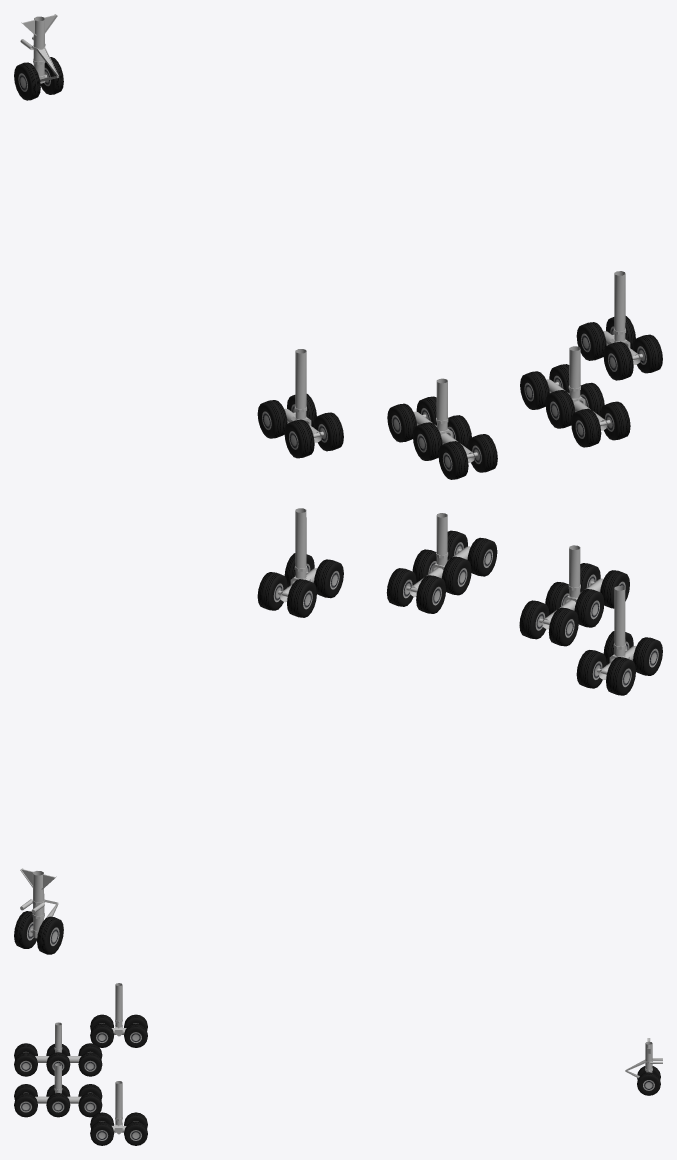
3 renders of one model, top to bottom at view 1: azimuth 30°, elevation 25°; view 2: azimuth 150°, elevation 25°; view 3: azimuth 270°, elevation 25°, orthographic. The views are drawn at different scales.
Visible parts, largest first — view 1: btyrela, tyrewla, rbtyrela, tyrerwla, tyrewlf, tyrerwlf, rbtyrelm, btyrelm, btyrelf, rbtyrelf, rbtyrera, btyrera (+6 smaller); view 2: btyrelf, rbtyrelf, tyrewlf, tyrerwlf, tyrerwla, tyrewla, btyrelm, rbtyrela, rbtyrelm, tyrerwrf, rbtyrerf, btyrerf (+7 smaller); view 3: btyrerf, rbtyrerm, tyrerwrf, btyrera, tyrerwra, rbtyrera, tyrewrf, rbtyrerf, tyrewra, tyrern, btyrerm, rwouterstrut (+1 smaller).
Part boxes in pixels (bbox=[...]): btyrela: bbox=[438, 441, 468, 479]; tyrewla: bbox=[284, 419, 314, 458]; rbtyrela: bbox=[571, 408, 601, 447]; tyrerwla: bbox=[603, 341, 633, 380]; tyrewlf: bbox=[257, 400, 287, 438]; tyrerwlf: bbox=[576, 322, 606, 360]; rbtyrelm: bbox=[545, 390, 575, 428]; btyrelm: bbox=[413, 422, 442, 460]; btyrelf: bbox=[387, 403, 416, 442]; rbtyrelf: bbox=[520, 371, 549, 409]; rbtyrera: bbox=[600, 401, 630, 440]; btyrera: bbox=[467, 434, 497, 472]; btyrelf: bbox=[548, 607, 578, 646]; rbtyrelf: bbox=[416, 575, 446, 613]; tyrewlf: bbox=[606, 657, 635, 695]; tyrerwlf: bbox=[287, 579, 316, 617]; tyrerwla: bbox=[314, 559, 343, 598]; tyrewla: bbox=[633, 637, 662, 675]; btyrelm: bbox=[574, 589, 604, 627]; rbtyrela: bbox=[467, 537, 497, 576]; rbtyrelm: bbox=[442, 556, 471, 595]; tyrerwrf: bbox=[257, 572, 287, 610]; rbtyrerf: bbox=[386, 568, 416, 606]; btyrerf: bbox=[519, 600, 549, 639]; btyrerf: bbox=[78, 1052, 102, 1076]; rbtyrerm: bbox=[46, 1093, 70, 1117]; tyrerwrf: bbox=[124, 1121, 147, 1145]; btyrera: bbox=[14, 1052, 37, 1076]; tyrerwra: bbox=[90, 1121, 114, 1145]; rbtyrera: bbox=[14, 1093, 37, 1117]; tyrewrf: bbox=[124, 1023, 147, 1047]; rbtyrerf: bbox=[78, 1093, 102, 1117]; tyrewra: bbox=[90, 1023, 113, 1047]; tyrern: bbox=[637, 1072, 660, 1095]; btyrerm: bbox=[46, 1052, 70, 1075]; rwouterstrut: bbox=[115, 1081, 122, 1120].
Size of the model in its own units: 14.22 by 3.47 by 35.15.
2 materials, 1 textured.
